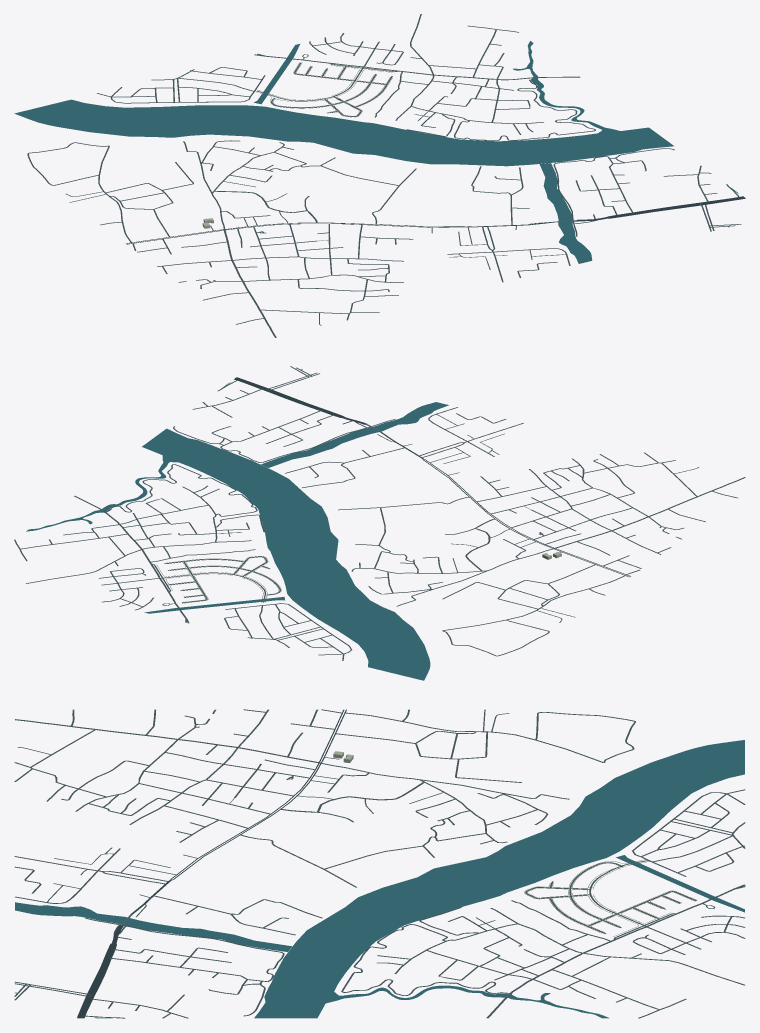
3 views of the same model, one above another, from view 1: azimuth 30°, elevation 25°; view 2: azimuth 150°, elevation 25°; view 3: azimuth 270°, elevation 25° (orthographic). The views are drawn at different scales.
Visible parts, largest first — view 1: water, street, major, path; view 2: water, street, major, path; view 3: water, street, major, path.
Part boxes in pixels (x1=…): water: x1=14, y1=41, x2=738, y2=263; street: x1=27, y1=14, x2=741, y2=337; major: x1=125, y1=196, x2=745, y2=244; path: x1=270, y1=62, x2=392, y2=241; water: x1=26, y1=382, x2=448, y2=680; street: x1=14, y1=366, x2=745, y2=660; major: x1=234, y1=377, x2=630, y2=577; path: x1=156, y1=506, x2=531, y2=603; water: x1=15, y1=740, x2=744, y2=1018; street: x1=14, y1=709, x2=745, y2=1018; major: x1=77, y1=709, x2=346, y2=1018; path: x1=229, y1=798, x2=697, y2=936.
Size of the model in its own units: 2005 by 10.7 by 2005.
